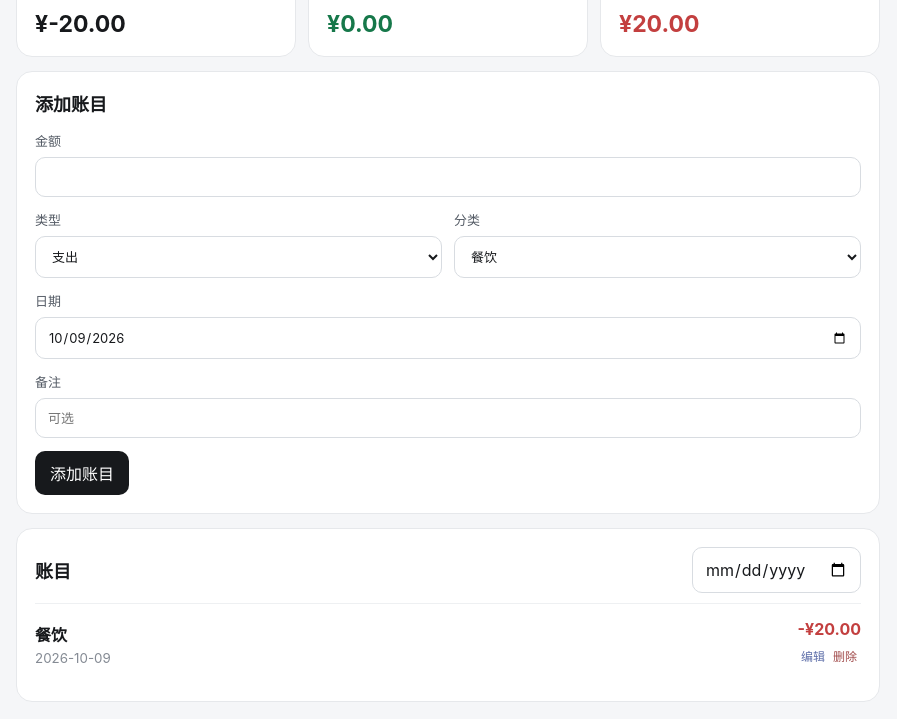
Test: bookkeeping UI › deletes a transaction and updates totals
(page scrolled)
Click the button "删除" at x=845, y=656, box x1=829 y1=643 x2=861 y2=668
(page scrolled)
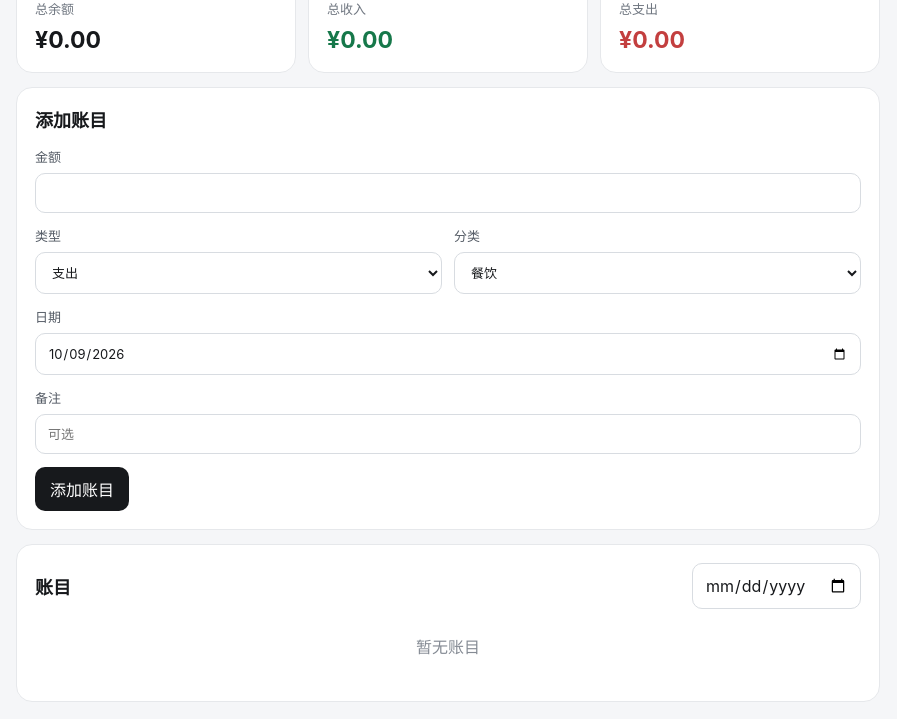
Expected: the text "¥0.00" is shown, x1=35 y1=26 x2=101 y2=54
Expected: no elements with class "transaction" are shown
